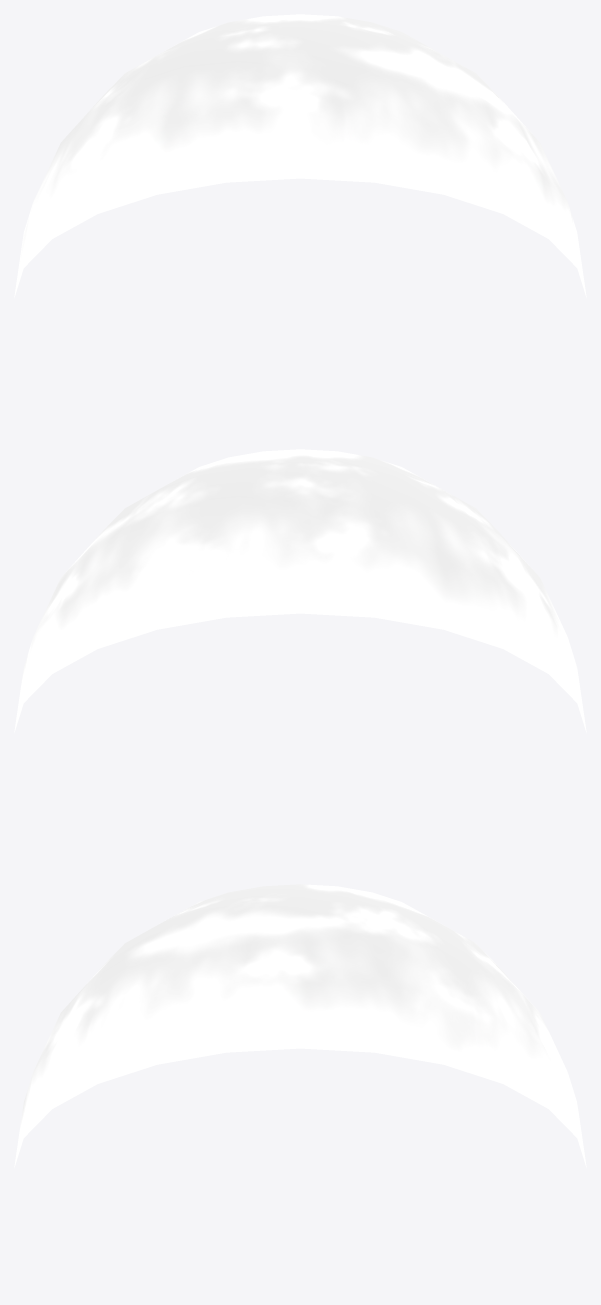
File: sky_Cloud0001.glb
3 renders of one model, top to bottom at view 1: azimuth 30°, elevation 25°; view 2: azimuth 150°, elevation 25°; view 3: azimuth 270°, elevation 25°, orthographic.
Visible parts, largest first — view 1: sky_Cloud0001_obj0; view 2: sky_Cloud0001_obj0; view 3: sky_Cloud0001_obj0.
Boxes of the visible parts, left/top/right/bottom form: sky_Cloud0001_obj0: left=14, top=14, right=586, bottom=297; sky_Cloud0001_obj0: left=14, top=449, right=586, bottom=732; sky_Cloud0001_obj0: left=14, top=884, right=586, bottom=1167.
Bounding box in the file's own units: 1.91 × 0.9222 × 1.91.
Materials: 1 (1 with a texture image).
